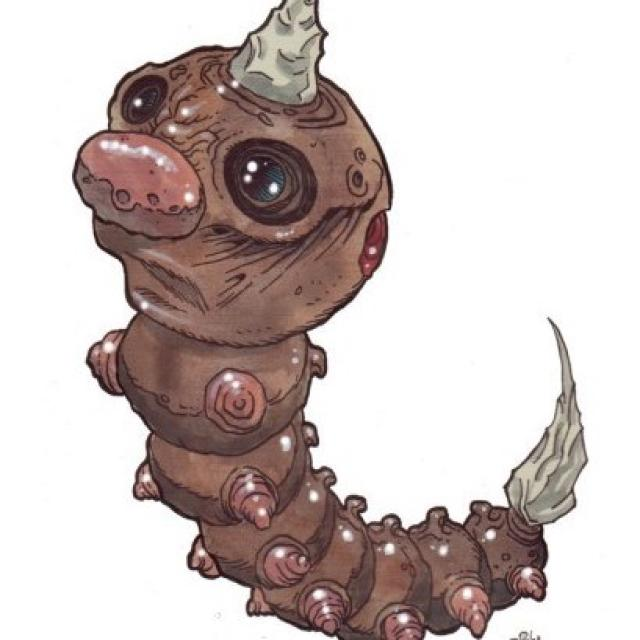Weedle: (59, 0, 400, 635)
